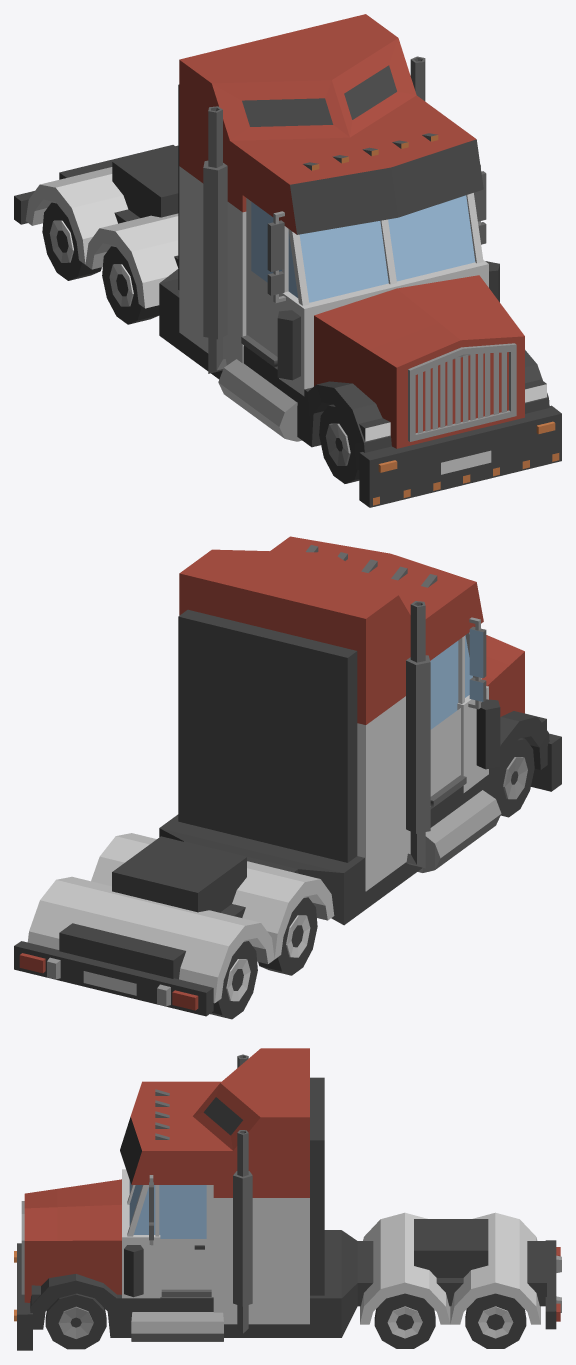
Rendered from transport_truck_003.fbx.
3 renders of one model, top to bottom at view 1: azimuth 30°, elevation 25°; view 2: azimuth 150°, elevation 25°; view 3: azimuth 270°, elevation 25°, orthographic. The views are drawn at different scales.
Parts seen in each view (by area): view 1: transport_truck_003; view 2: transport_truck_003; view 3: transport_truck_003.
Part boxes in pixels (x1,y1,x2,y2): transport_truck_003: (14,14,561,507); transport_truck_003: (14,536,561,1019); transport_truck_003: (14,1048,561,1350).
Size of the model in its own units: 213 by 277 by 587.
